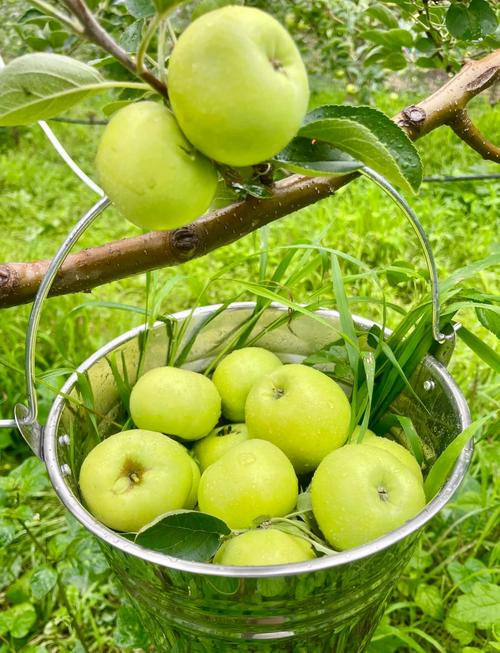unripe: (158, 0, 320, 173), (78, 93, 237, 232), (70, 423, 195, 541), (308, 438, 435, 551), (235, 358, 361, 466), (190, 436, 305, 528), (118, 356, 232, 443)
